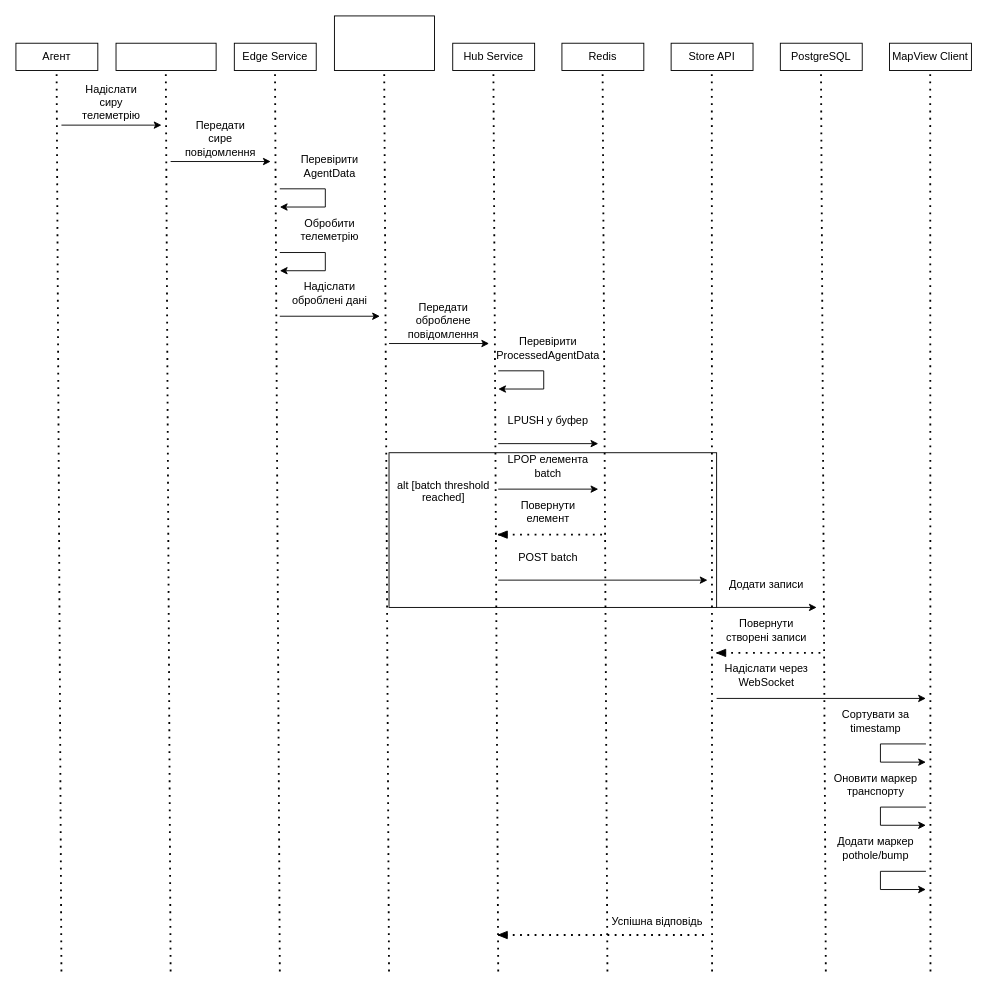
This 987x989 diagram has some shape labels left out. The shapes that lost their labels are listed below. From the top down, each one's centre as x and y in pixels, then its label:
the point at 165,56: MQTT Broker (raw topic)
the point at 384,43: MQTT Broker (processed topic)
